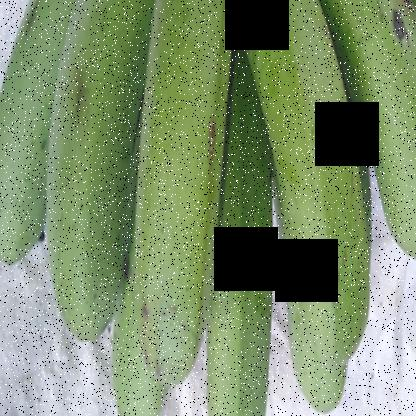unripe: (128, 1, 253, 400), (251, 1, 369, 387), (44, 1, 150, 362), (329, 1, 416, 283), (0, 1, 84, 264)
